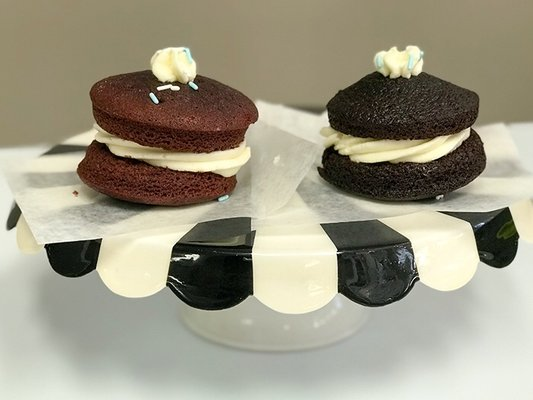soup: (76, 55, 260, 206), (318, 52, 487, 201)
